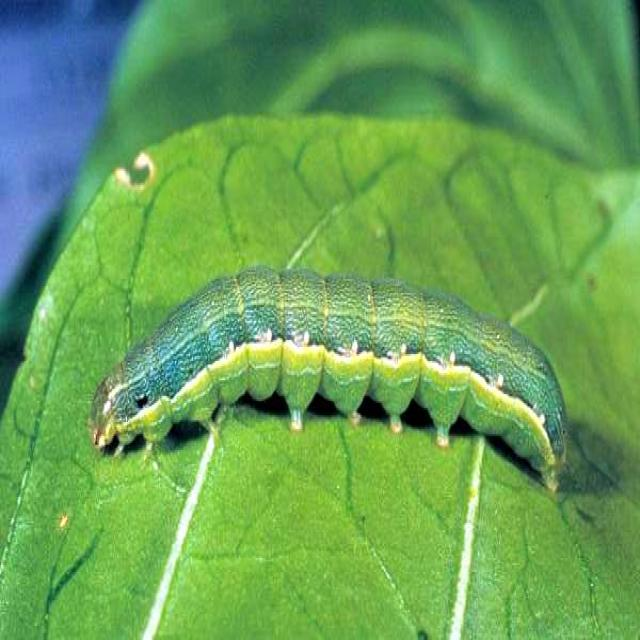Armyworm: (77, 208, 574, 558)
